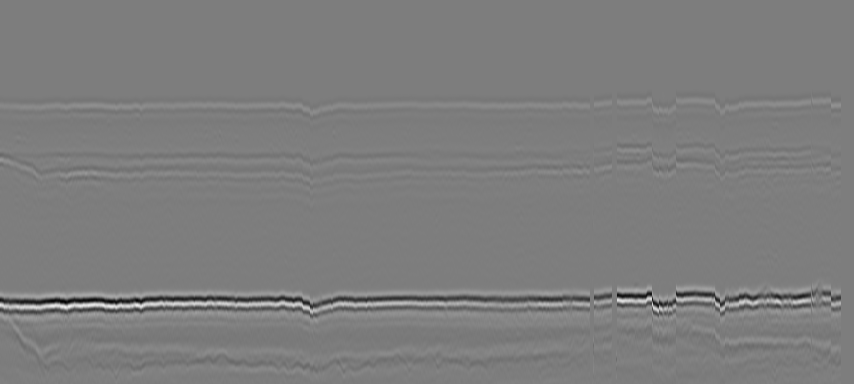fault: (294, 148, 331, 211), (643, 134, 687, 186), (639, 83, 684, 128), (293, 92, 334, 137), (708, 136, 741, 191), (823, 136, 851, 197), (709, 86, 735, 126), (822, 84, 845, 123)
